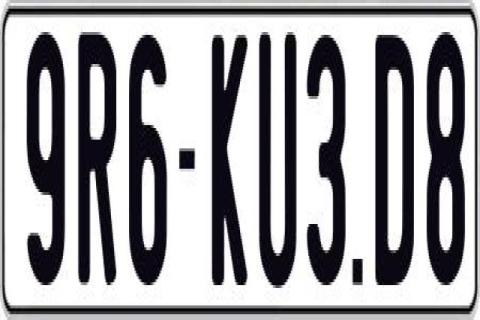0: (306, 35, 351, 303), (128, 29, 172, 297), (27, 29, 70, 297), (424, 29, 460, 285)
D: (374, 35, 417, 299)
K: (210, 29, 250, 294)
R: (78, 29, 116, 297)
U: (258, 32, 301, 302)
